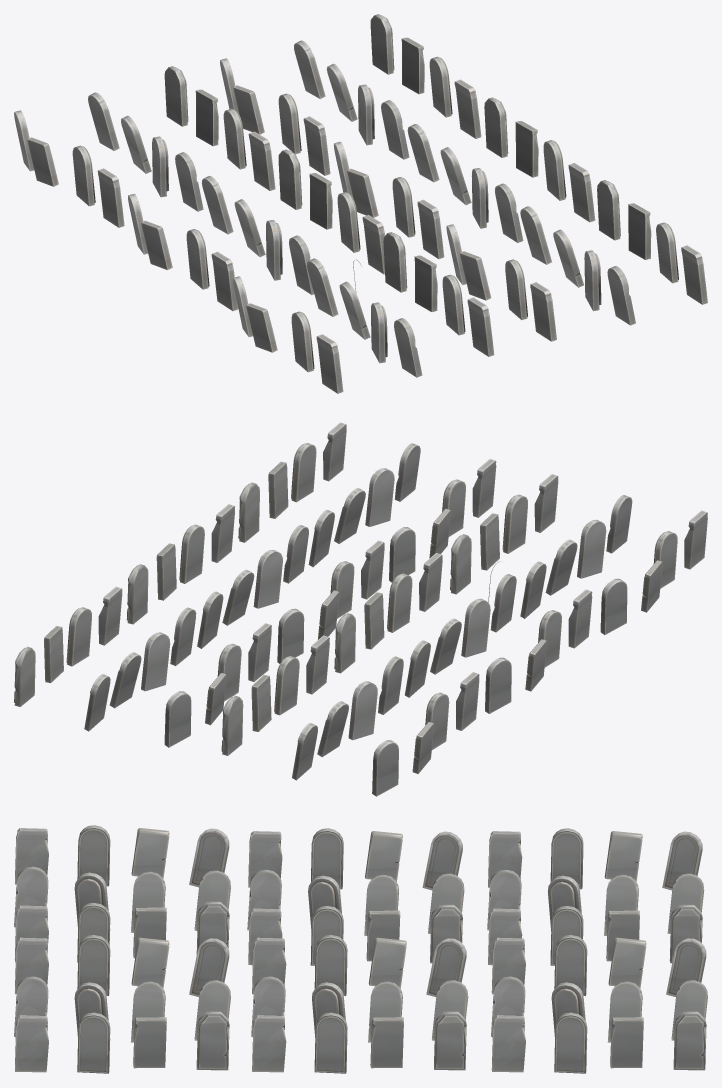
The model's file is cementerio.obj.
The picture shows the model from 3 angles, top to bottom: view 1: azimuth 30°, elevation 25°; view 2: azimuth 150°, elevation 25°; view 3: azimuth 270°, elevation 25°; orthographic projection. The views are drawn at different scales.
Parts seen in each view (by area): view 1: Object_5.002_grave_church_baked.001, Object_5.002_grave_church_baked.009, Object_5.002_grave_church_baked.005, Object_5.002_grave_church_baked.003, Object_5.002_grave_church_baked.011, Object_5.002_grave_church_baked.007, Object_5.002_grave_church_baked.004, Object_5.002_grave_church_baked.002, Object_5.002_grave_church_baked.010, Object_5.002_grave_church_baked.006, Object_5.002_grave_church_baked.012, Object_5.002_grave_church_baked.008; view 2: Object_5.002_grave_church_baked.007, Object_5.002_grave_church_baked.011, Object_5.002_grave_church_baked.009, Object_5.002_grave_church_baked.005, Object_5.002_grave_church_baked.001, Object_5.002_grave_church_baked.003, Object_5.002_grave_church_baked.008, Object_5.002_grave_church_baked.002, Object_5.002_grave_church_baked.006, Object_5.002_grave_church_baked.004, Object_5.002_grave_church_baked.012, Object_5.002_grave_church_baked.010; view 3: Object_5.002_grave_church_baked.011, Object_5.002_grave_church_baked.001, Object_5.002_grave_church_baked.003, Object_5.002_grave_church_baked.005, Object_5.002_grave_church_baked.007, Object_5.002_grave_church_baked.009, Object_5.002_grave_church_baked.008, Object_5.002_grave_church_baked.006, Object_5.002_grave_church_baked.010, Object_5.002_grave_church_baked.002, Object_5.002_grave_church_baked.012, Object_5.002_grave_church_baked.004.
Boxes of the visible parts, <box> form: Object_5.002_grave_church_baked.001: <box>446,180,707,325</box>; Object_5.002_grave_church_baked.009: <box>14,66,275,211</box>; Object_5.002_grave_church_baked.005: <box>233,232,494,377</box>; Object_5.002_grave_church_baked.003: <box>333,97,595,242</box>; Object_5.002_grave_church_baked.011: <box>220,14,481,159</box>; Object_5.002_grave_church_baked.007: <box>128,149,384,294</box>; Object_5.002_grave_church_baked.004: <box>392,177,444,258</box>; Object_5.002_grave_church_baked.002: <box>505,259,556,341</box>; Object_5.002_grave_church_baked.010: <box>72,145,124,227</box>; Object_5.002_grave_church_baked.006: <box>291,311,343,393</box>; Object_5.002_grave_church_baked.012: <box>278,93,330,175</box>; Object_5.002_grave_church_baked.008: <box>186,229,238,310</box>; Object_5.002_grave_church_baked.007: <box>334,553,547,713</box>; Object_5.002_grave_church_baked.011: <box>14,586,226,747</box>; Object_5.002_grave_church_baked.009: <box>221,635,434,796</box>; Object_5.002_grave_church_baked.005: <box>450,474,662,634</box>; Object_5.002_grave_church_baked.001: <box>238,422,451,582</box>; Object_5.002_grave_church_baked.003: <box>126,504,339,663</box>; Object_5.002_grave_church_baked.008: <box>538,589,592,667</box>; Object_5.002_grave_church_baked.002: <box>442,459,496,536</box>; Object_5.002_grave_church_baked.006: <box>653,510,707,588</box>; Object_5.002_grave_church_baked.004: <box>330,540,384,618</box>; Object_5.002_grave_church_baked.012: <box>217,623,271,701</box>; Object_5.002_grave_church_baked.010: <box>425,672,479,749</box>; Object_5.002_grave_church_baked.011: <box>491,937,707,1073</box>; Object_5.002_grave_church_baked.001: <box>14,937,230,1073</box>; Object_5.002_grave_church_baked.003: <box>251,937,468,1073</box>; Object_5.002_grave_church_baked.005: <box>14,828,230,962</box>; Object_5.002_grave_church_baked.007: <box>247,831,464,965</box>; Object_5.002_grave_church_baked.009: <box>487,831,704,965</box>; Object_5.002_grave_church_baked.008: <box>248,828,343,889</box>; Object_5.002_grave_church_baked.006: <box>15,825,110,886</box>; Object_5.002_grave_church_baked.010: <box>488,828,583,889</box>; Object_5.002_grave_church_baked.002: <box>15,935,110,996</box>; Object_5.002_grave_church_baked.012: <box>491,935,587,996</box>; Object_5.002_grave_church_baked.004: <box>252,935,347,995</box>.
Bounding box in the file's own units: 11.36 × 1.67 × 15.12.
